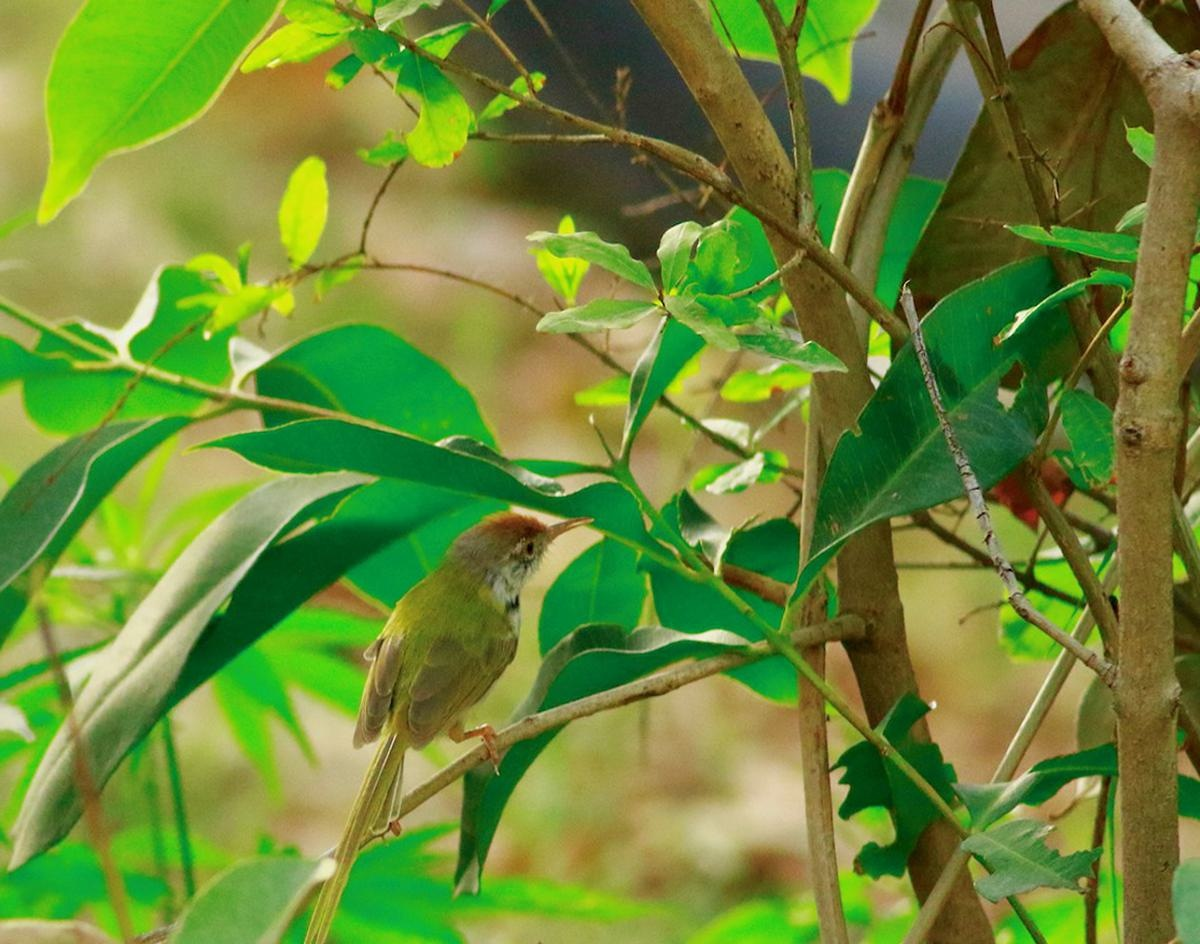tailorbird: (289, 472, 630, 930)
